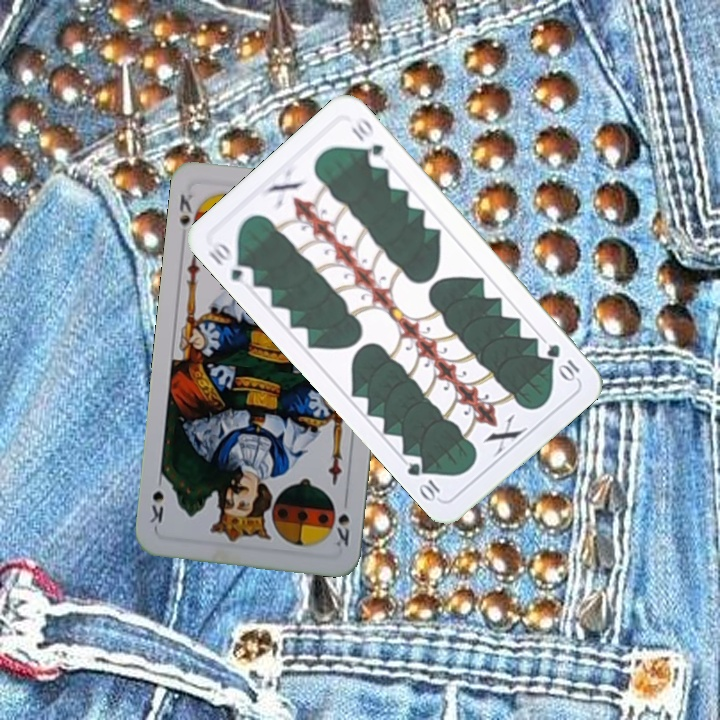G10: (204, 237, 257, 289), (542, 339, 583, 384)
SK: (332, 492, 352, 549), (175, 187, 198, 229)
